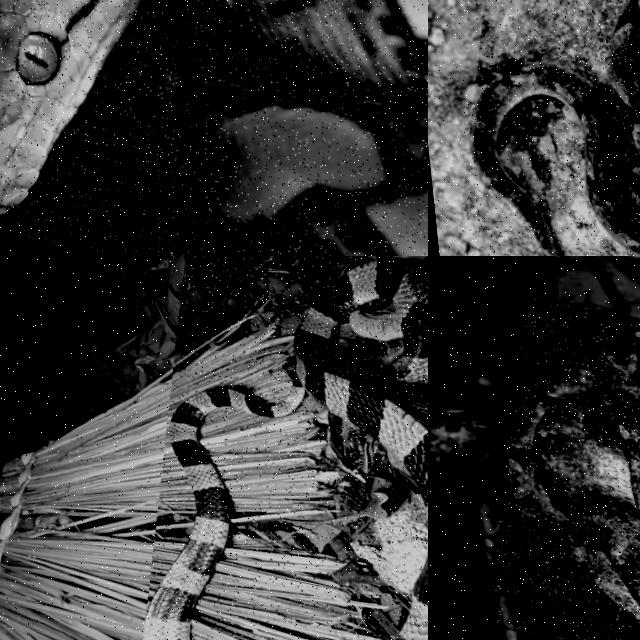Bungarus fasciatus: (145, 263, 427, 639)
Calloselasma rhodostoma: (505, 333, 639, 622), (471, 65, 639, 255)
Malayopython reticulatus: (0, 0, 427, 255)
